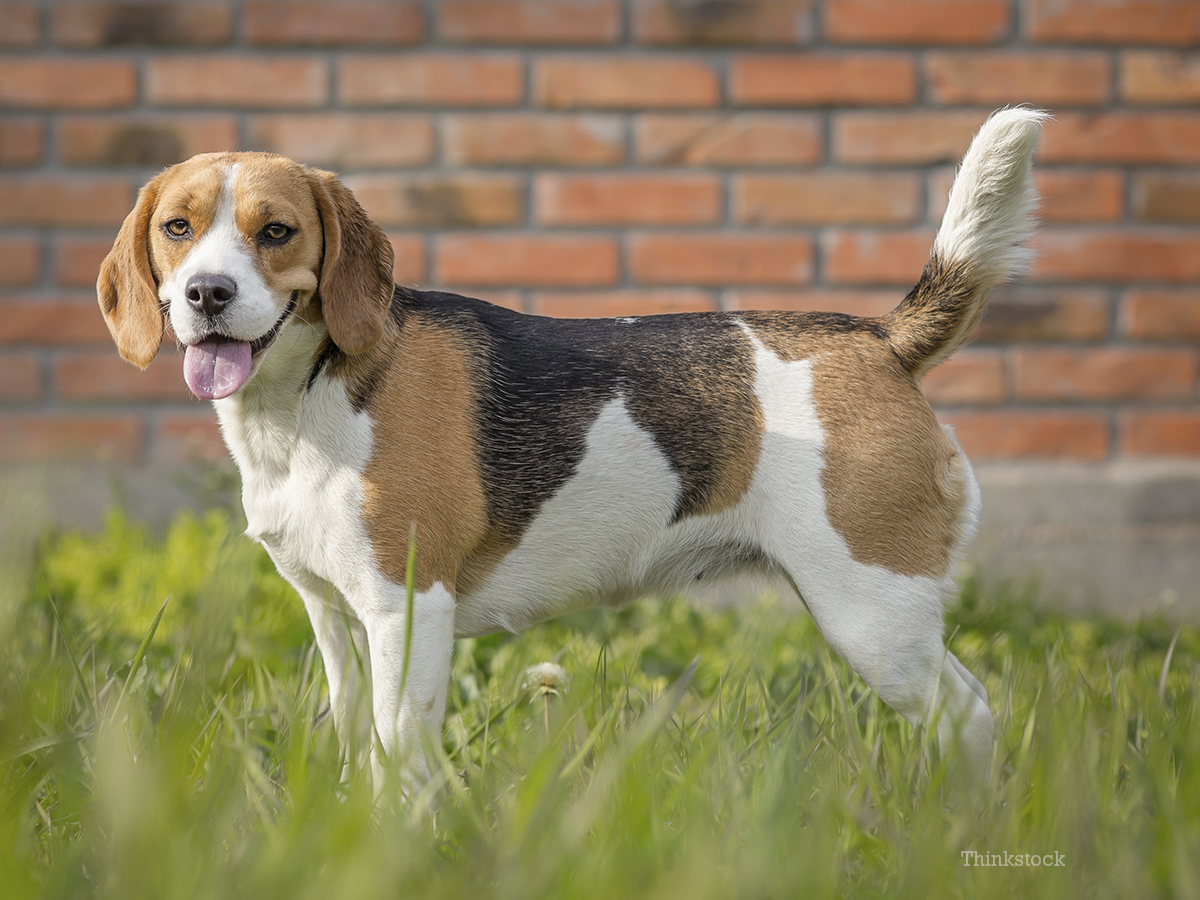tail: (882, 101, 1059, 385)
